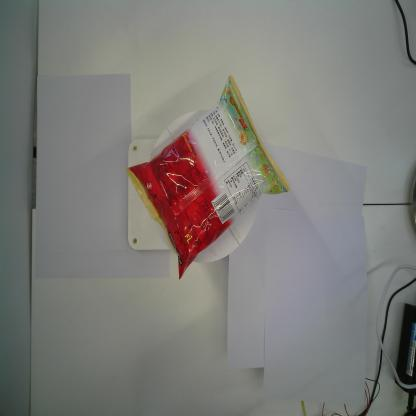Puffed Food: (125, 72, 293, 282)
